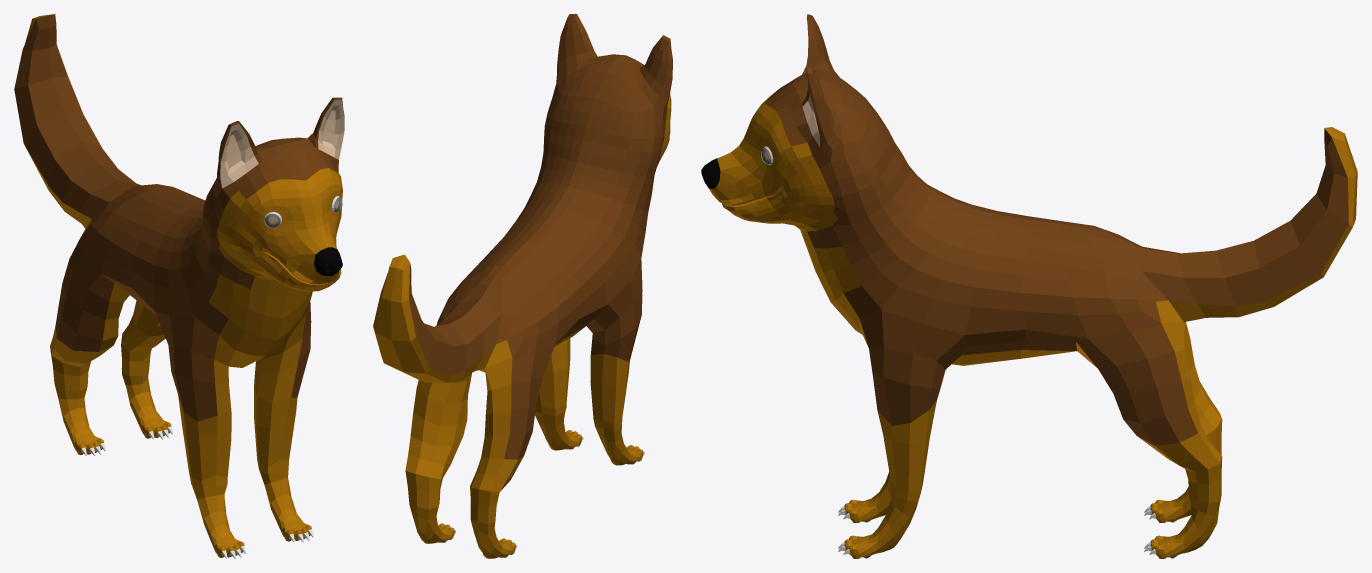
The model's file is husky_lowpoly.fbx.
3 renders of one model, left to right at view 1: azimuth 30°, elevation 25°; view 2: azimuth 150°, elevation 25°; view 3: azimuth 270°, elevation 25°, orthographic. The views are drawn at different scales.
Parts seen in each view (by area): view 1: Husky; view 2: Husky; view 3: Husky.
Boxes of the visible parts, x1,y1,x2,y2 form: Husky: (14,14,344,558); Husky: (373,14,672,558); Husky: (701,14,1357,558).
Bounding box in the file's own units: 95.65 × 322 × 387.
